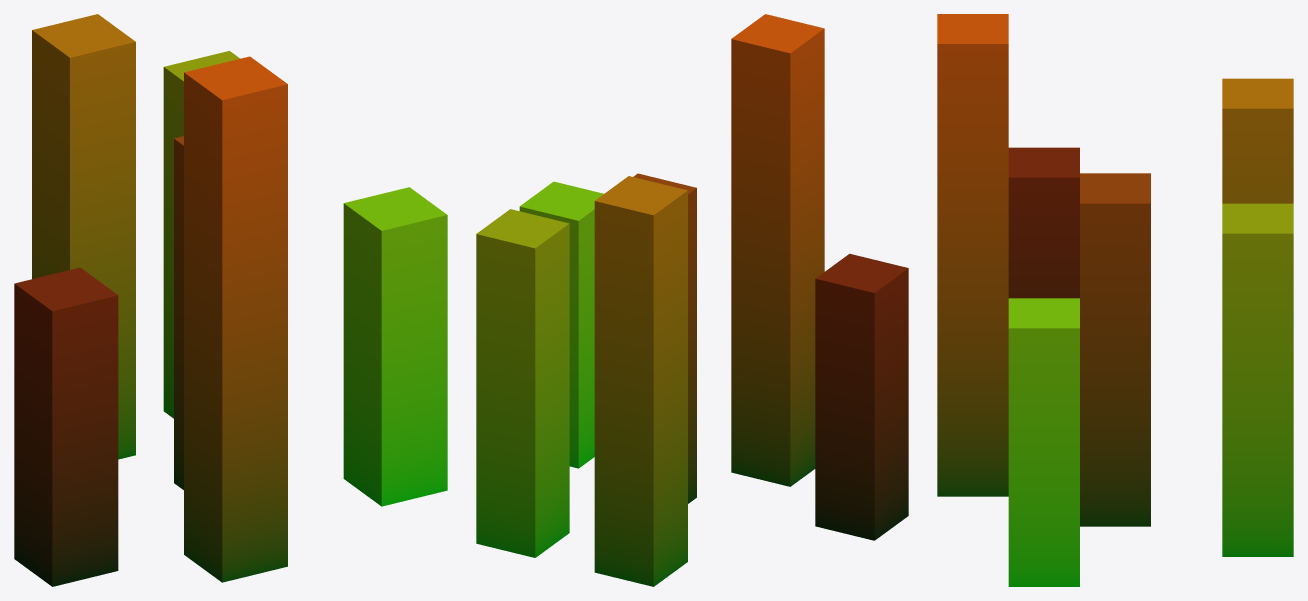
File: prop_grass_tuft_voxel_b_carpet.fbx
3 renders of one model, left to right at view 1: azimuth 30°, elevation 25°; view 2: azimuth 150°, elevation 25°; view 3: azimuth 270°, elevation 25°, orthographic. The views are drawn at different scales.
Visible parts, largest first — view 1: prop_grass_tuft_voxel_b_carpet; view 2: prop_grass_tuft_voxel_b_carpet; view 3: prop_grass_tuft_voxel_b_carpet.
Boxes of the visible parts, box(x1,y1,x2,y2) form: prop_grass_tuft_voxel_b_carpet: box(14, 14, 447, 586); prop_grass_tuft_voxel_b_carpet: box(476, 14, 908, 586); prop_grass_tuft_voxel_b_carpet: box(937, 14, 1293, 586).
Size of the model in its own units: 0.375 by 0.4375 by 0.3125.
